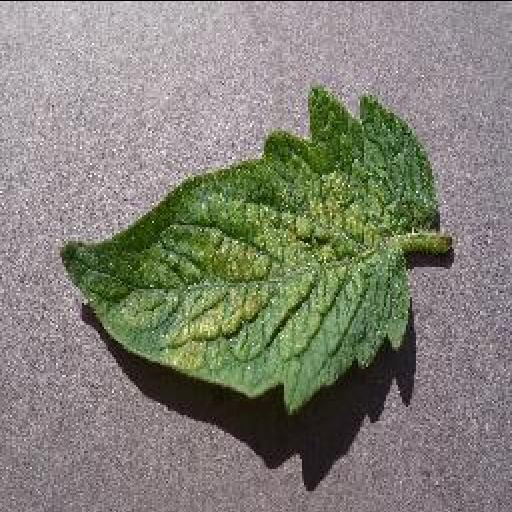disease_tomato: (54, 86, 436, 412)
